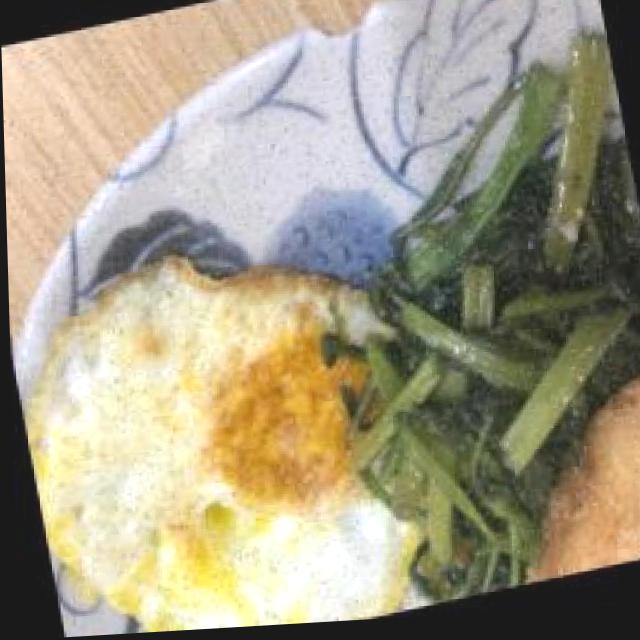fried_eggs: (5, 195, 435, 640)
water_spinach: (335, 105, 640, 615)
